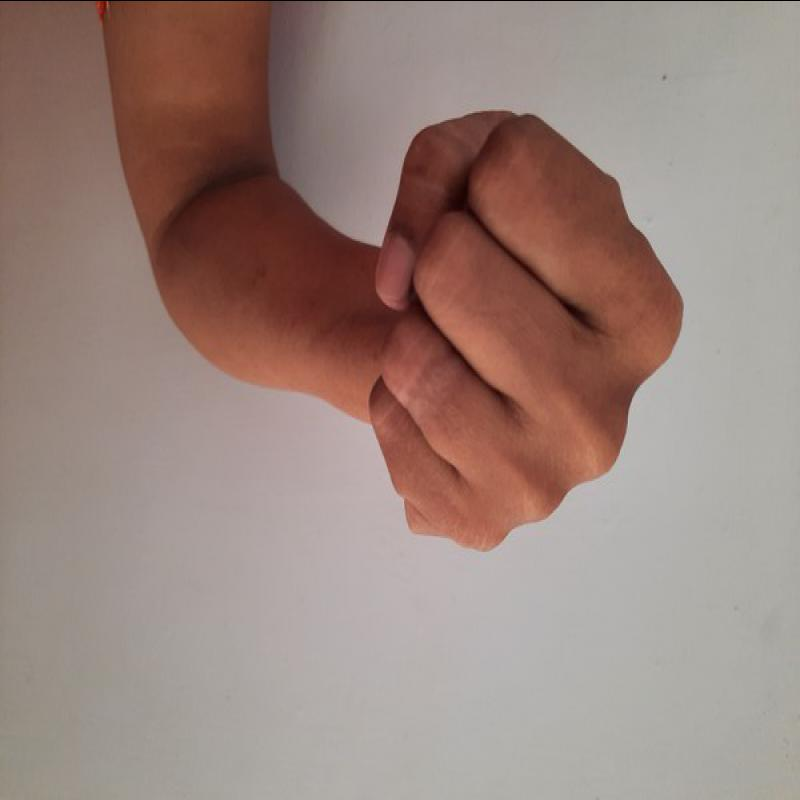Mushti: (362, 101, 691, 559)
